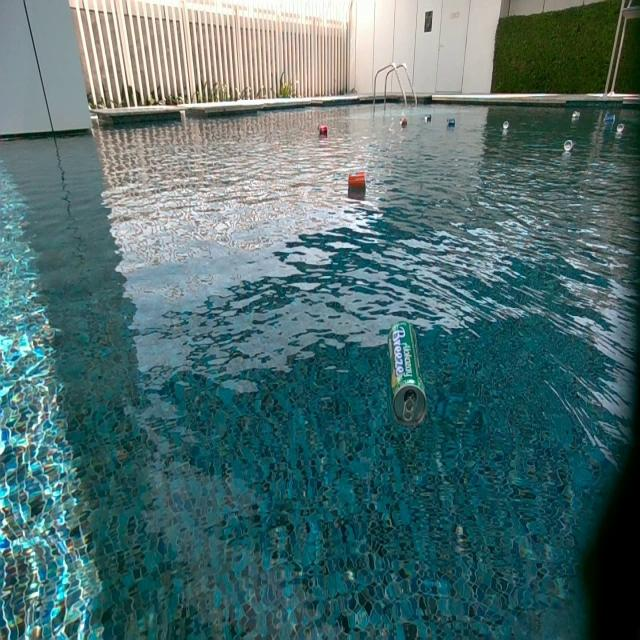Cans: (392, 319, 428, 431), (349, 171, 366, 189), (447, 116, 457, 128), (563, 140, 573, 152), (319, 125, 328, 138), (604, 112, 614, 123), (617, 124, 626, 136), (399, 116, 407, 128), (571, 110, 579, 122), (424, 114, 432, 123), (501, 120, 508, 128)
